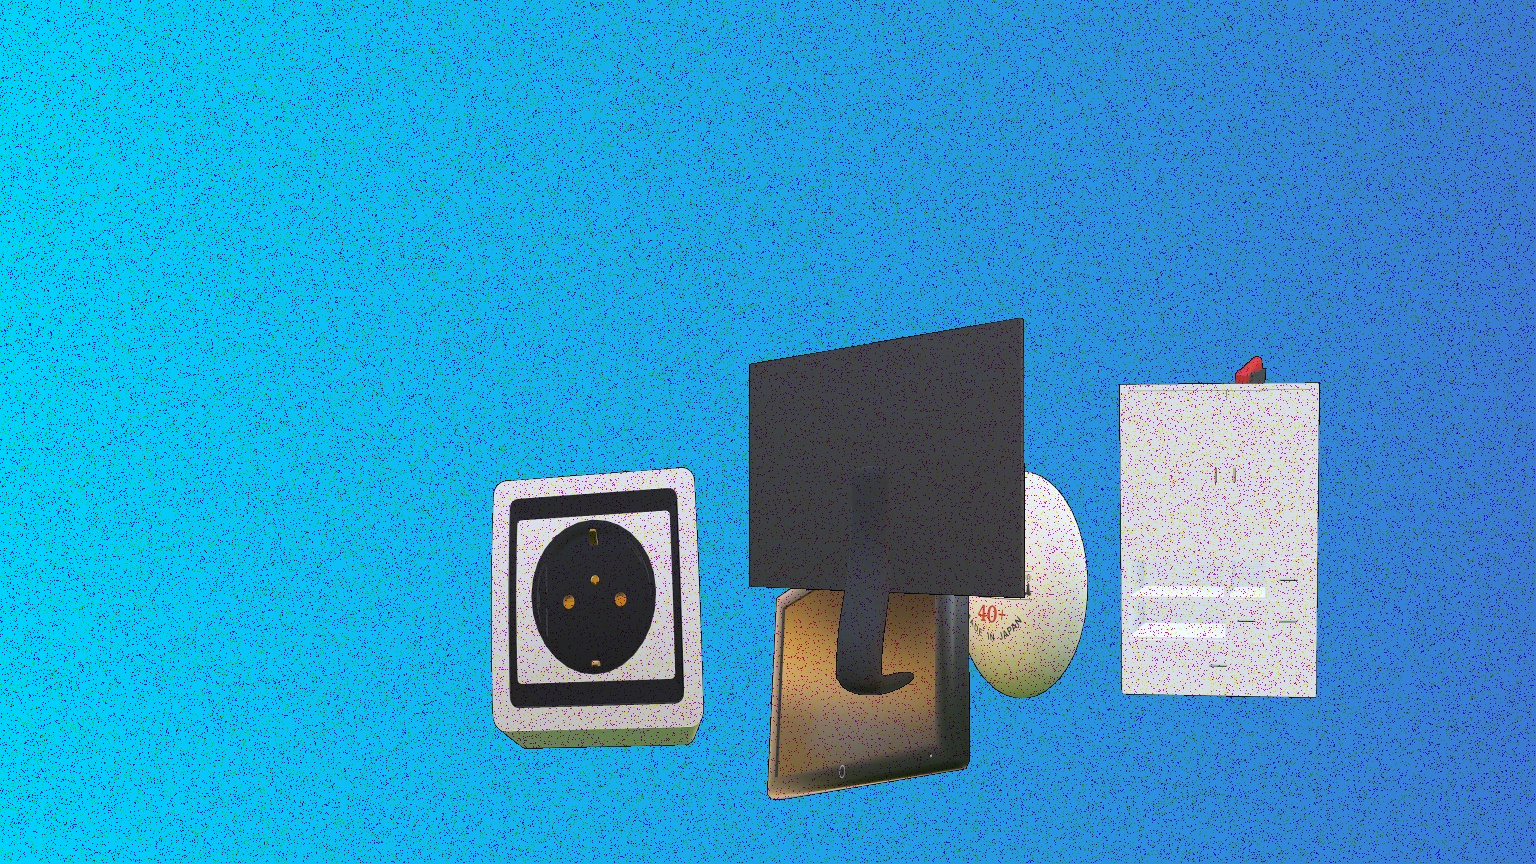armario: (1119, 382, 1320, 698)
enchufe: (491, 467, 704, 749)
monitor: (749, 316, 1025, 696)
